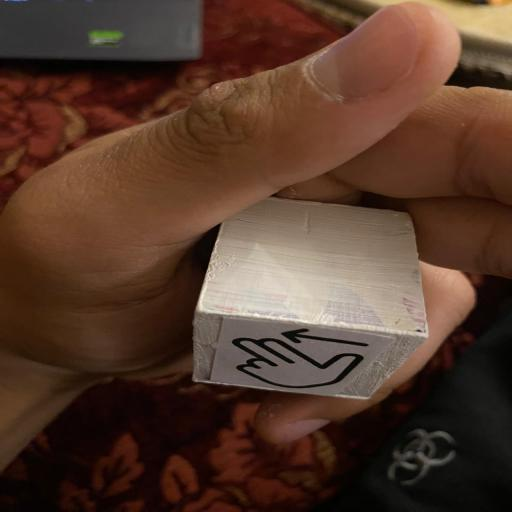LeftSwipe: (190, 196, 432, 398)
